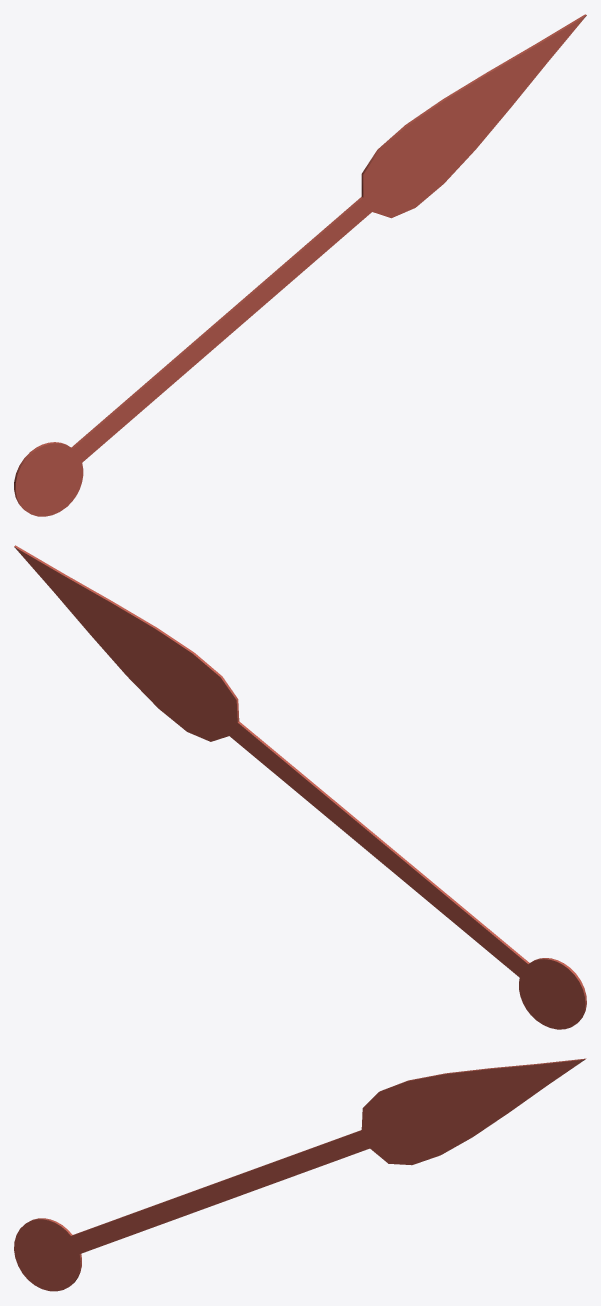
The model's file is segundero.obj.
3 renders of one model, top to bottom at view 1: azimuth 30°, elevation 25°; view 2: azimuth 150°, elevation 25°; view 3: azimuth 330°, elevation 25°, orthographic.
Visible parts, largest first — view 1: initialShadingGroup polySurface2 arms; view 2: initialShadingGroup polySurface2 arms; view 3: initialShadingGroup polySurface2 arms.
Boxes of the visible parts, box(x1,y1,x2,y2) form: initialShadingGroup polySurface2 arms: box(14, 14, 586, 516); initialShadingGroup polySurface2 arms: box(14, 545, 586, 1029); initialShadingGroup polySurface2 arms: box(14, 1058, 586, 1291).
Bounding box in the file's own units: 5.01 × 3.01 × 0.1178.
1 material, 1 textured.
